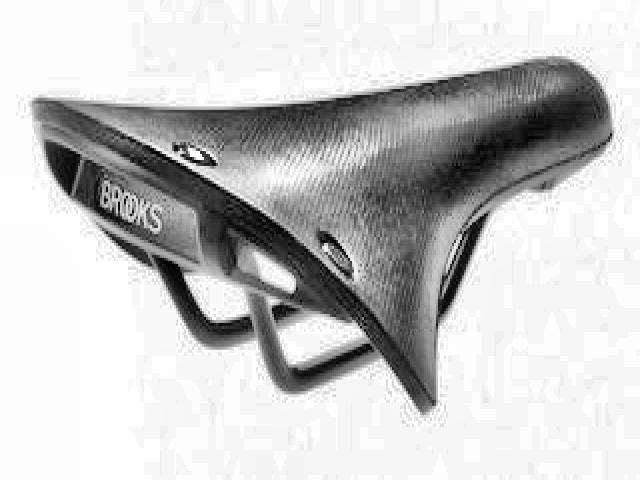saddle: (26, 54, 616, 422)
